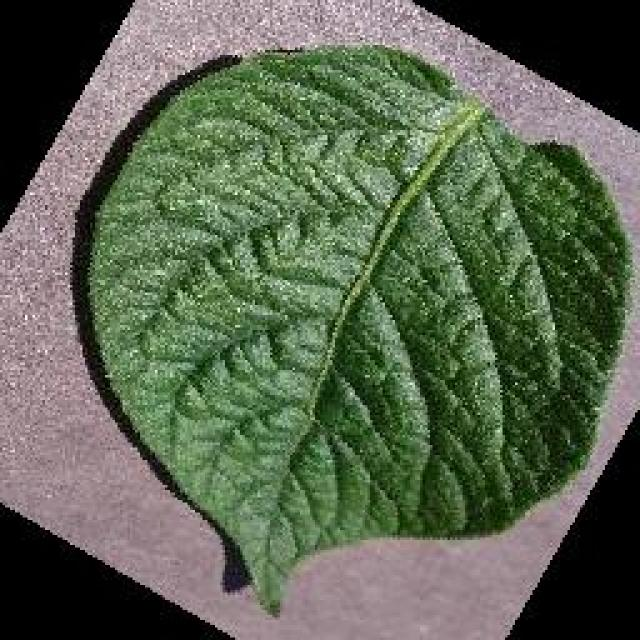Potato___Early_blight: (79, 41, 635, 629)
